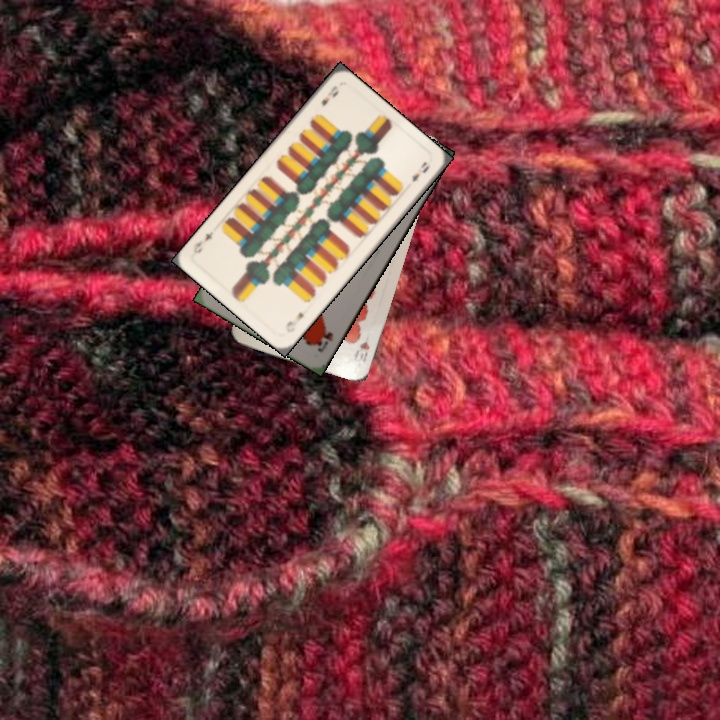E9: (281, 308, 307, 335), (317, 82, 342, 108)
H10: (350, 337, 372, 365)
HO: (311, 323, 336, 355)
